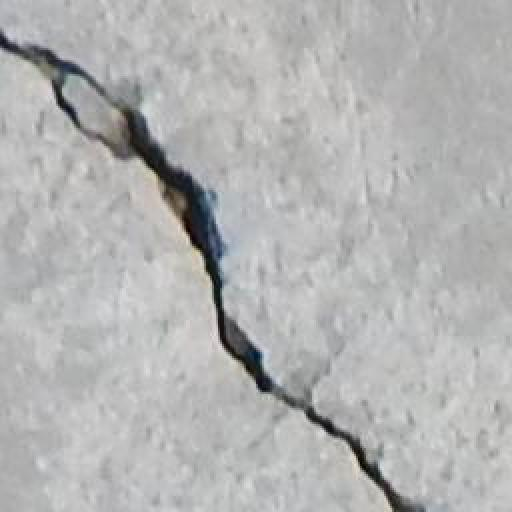spalling: (2, 24, 420, 502)
